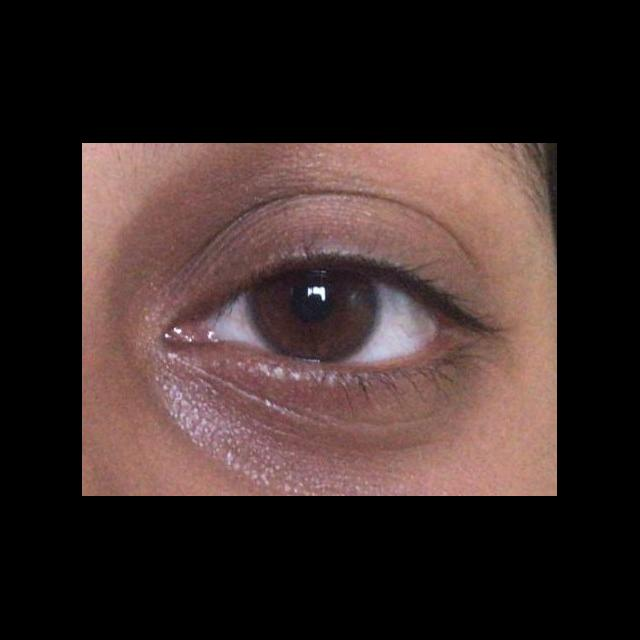eye: (216, 268, 442, 366)
iris: (250, 270, 384, 362)
